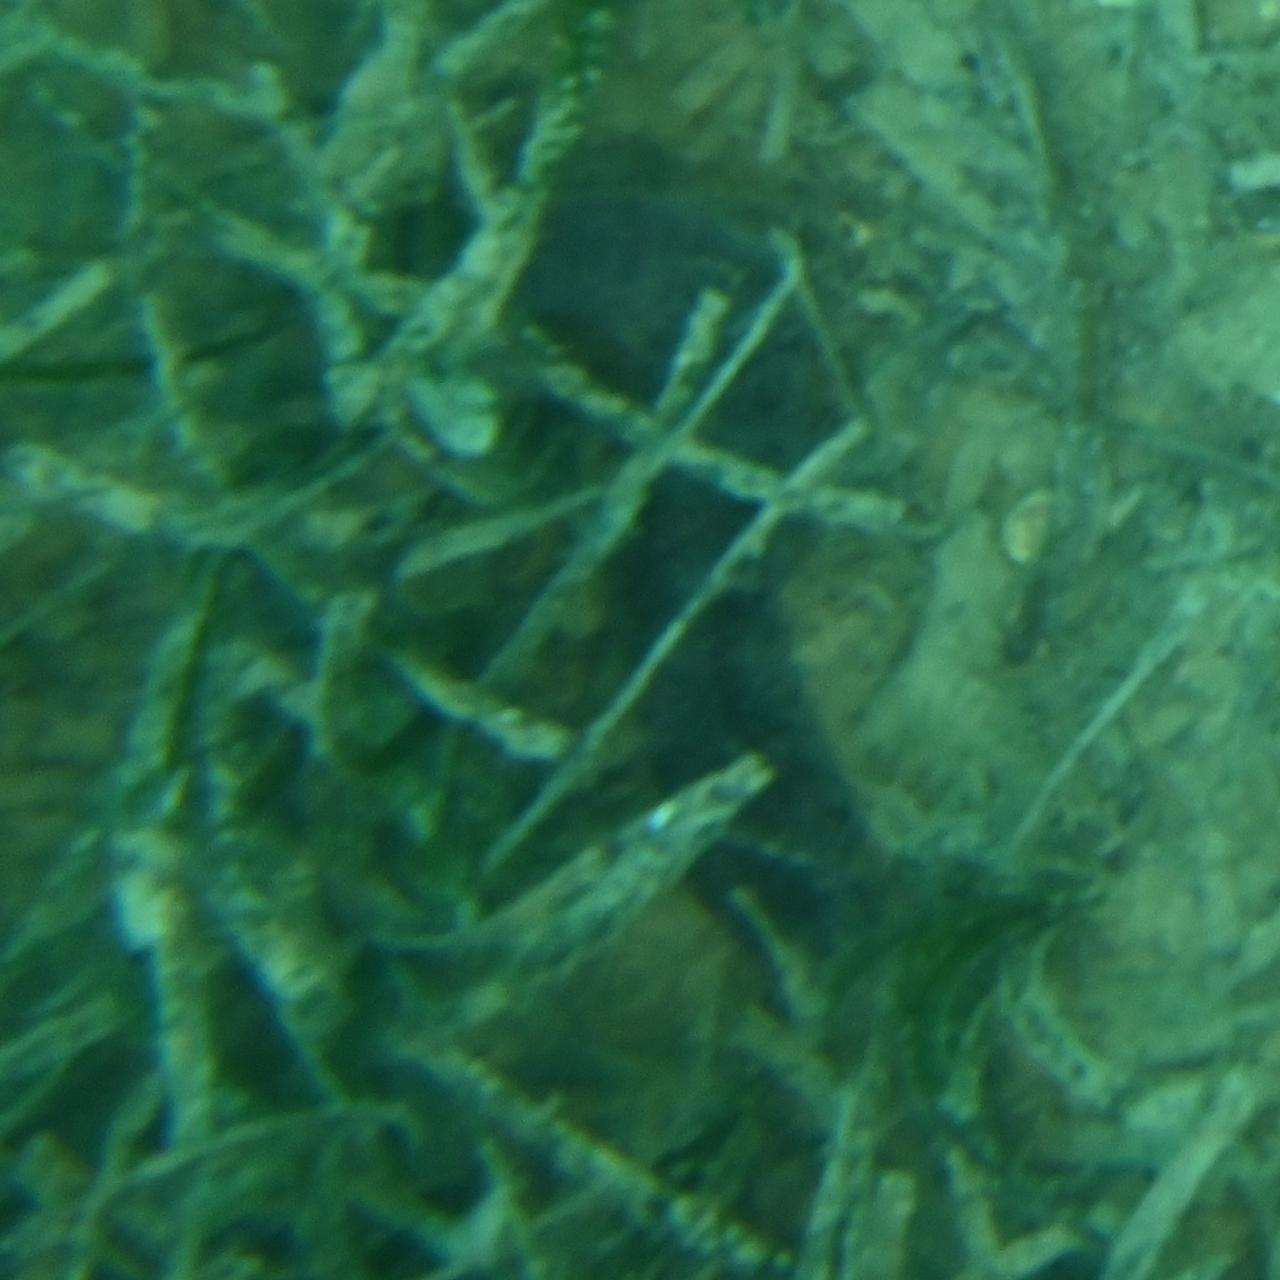Holothuria tubulosa: (382, 190, 898, 1090)
